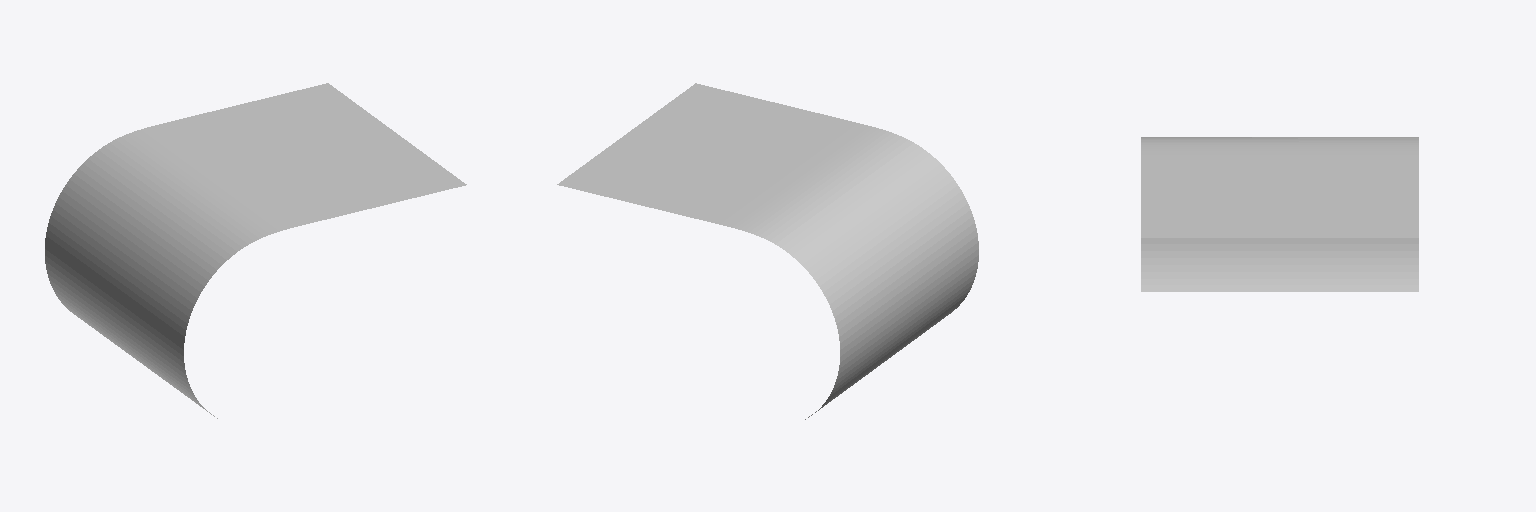
The model's file is CurvePaper_000046.obj.
The picture shows the model from 3 angles: view 1: azimuth 30°, elevation 25°; view 2: azimuth 150°, elevation 25°; view 3: azimuth 270°, elevation 25°; orthographic projection.
Parts seen in each view (by area): view 1: Plane; view 2: Plane; view 3: Plane.
Boxes of the visible parts, x1=… form: Plane: x1=45, y1=83, x2=466, y2=418; Plane: x1=557, y1=83, x2=978, y2=419; Plane: x1=1141, y1=137, x2=1418, y2=291.
Size of the model in its own units: 2.66 by 1.57 by 2.26.